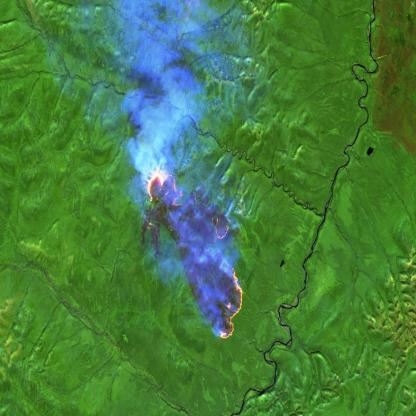fire: (140, 162, 245, 340)
